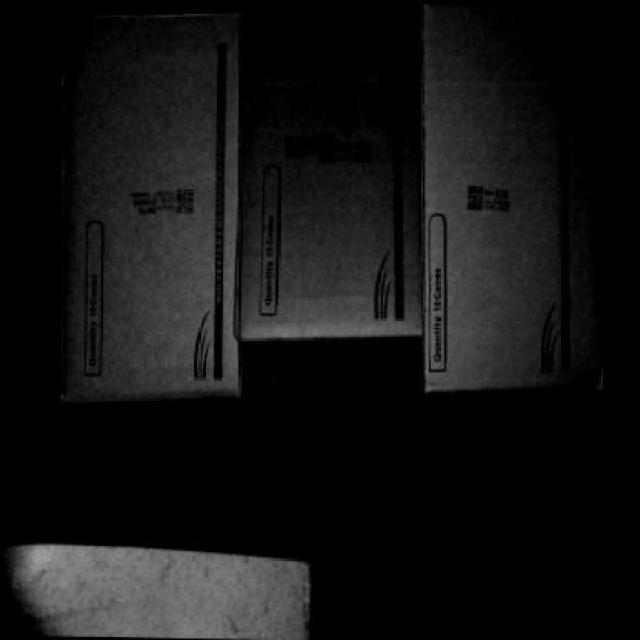cardboxes: (51, 0, 246, 405), (426, 15, 608, 394), (242, 3, 427, 345)
